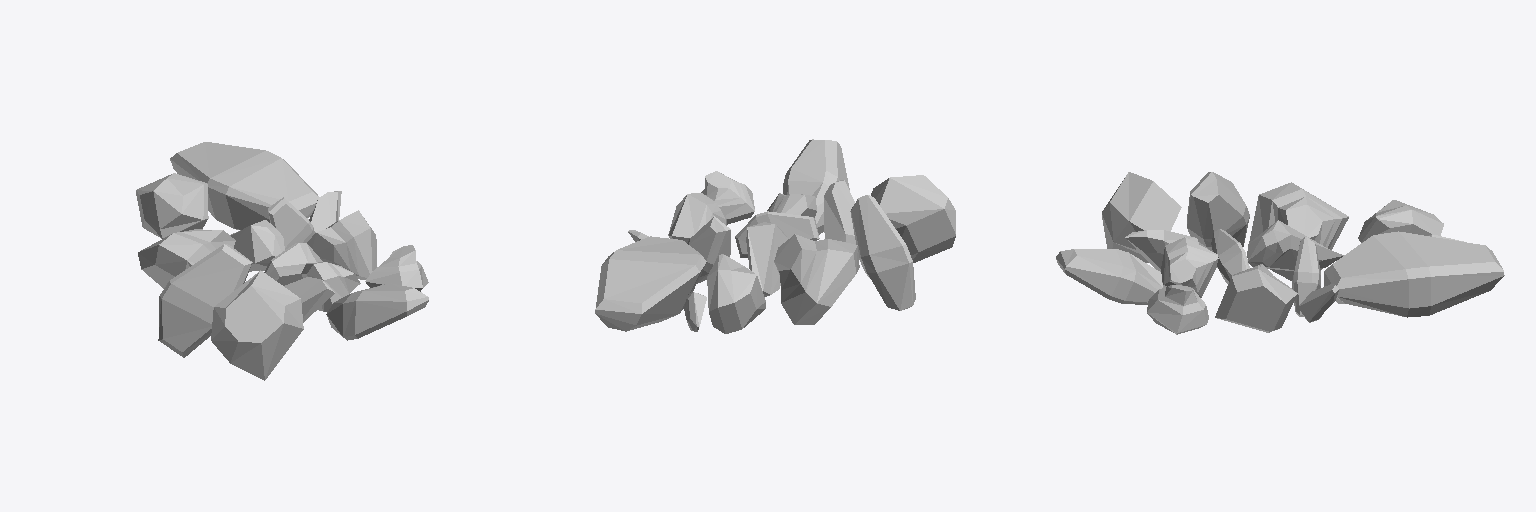
The model's file is Roca3.obj.
The picture shows the model from 3 angles: view 1: azimuth 30°, elevation 25°; view 2: azimuth 150°, elevation 25°; view 3: azimuth 270°, elevation 25°; orthographic projection.
Parts seen in each view (by area): view 1: Rocks03_Mesh.004; view 2: Rocks03_Mesh.004; view 3: Rocks03_Mesh.004.
Part boxes in pixels (bbox=[...]): Rocks03_Mesh.004: bbox=[136, 142, 428, 380]; Rocks03_Mesh.004: bbox=[595, 139, 955, 333]; Rocks03_Mesh.004: bbox=[1056, 172, 1504, 334].
Size of the model in its own units: 4.75 by 1.97 by 7.62.